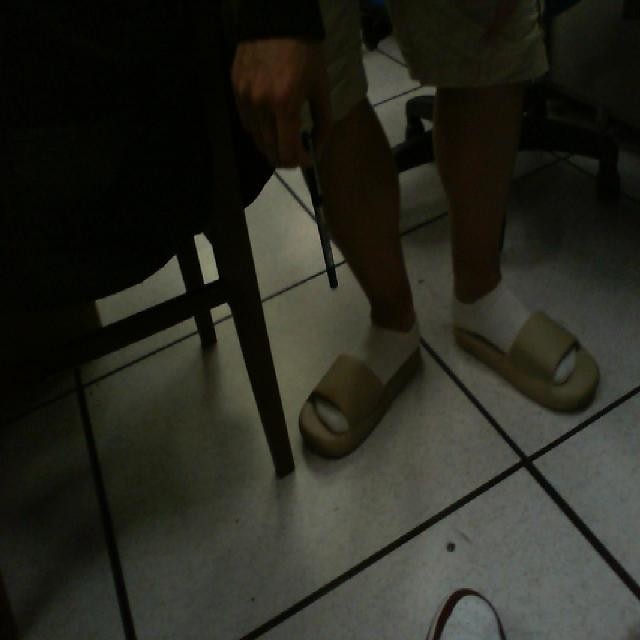Pen: (272, 103, 354, 302)
